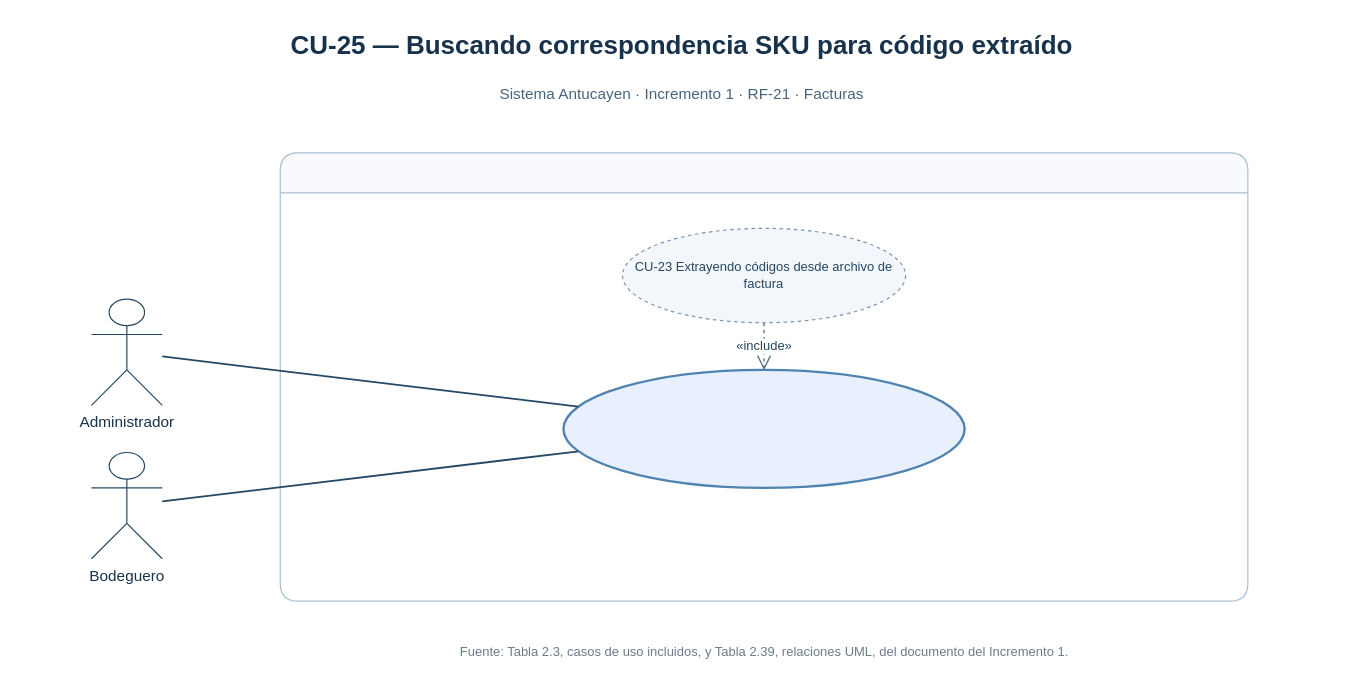
Some shapes in this 1362 by 687 pixel diagram are drawn without their labels. Each missing label, with the box of its shape:
CU-25 Buscando correspondencia SKU para código extraído: (562, 368, 965, 489)
Sistema de Gestión de Inventario y Facturas — Antucayen: (279, 152, 1248, 601)
